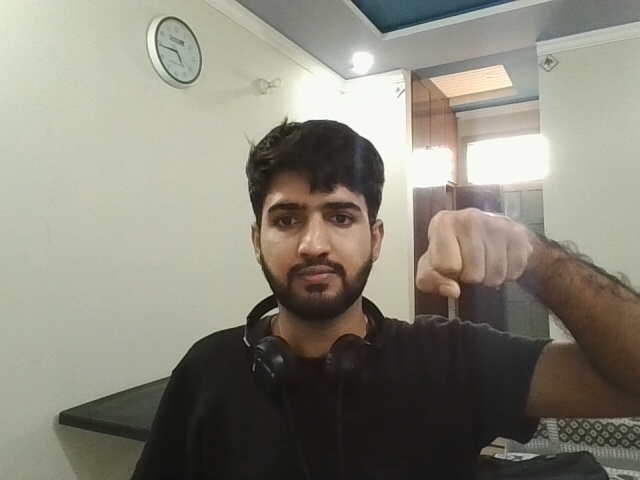Yes: (407, 205, 540, 315)
